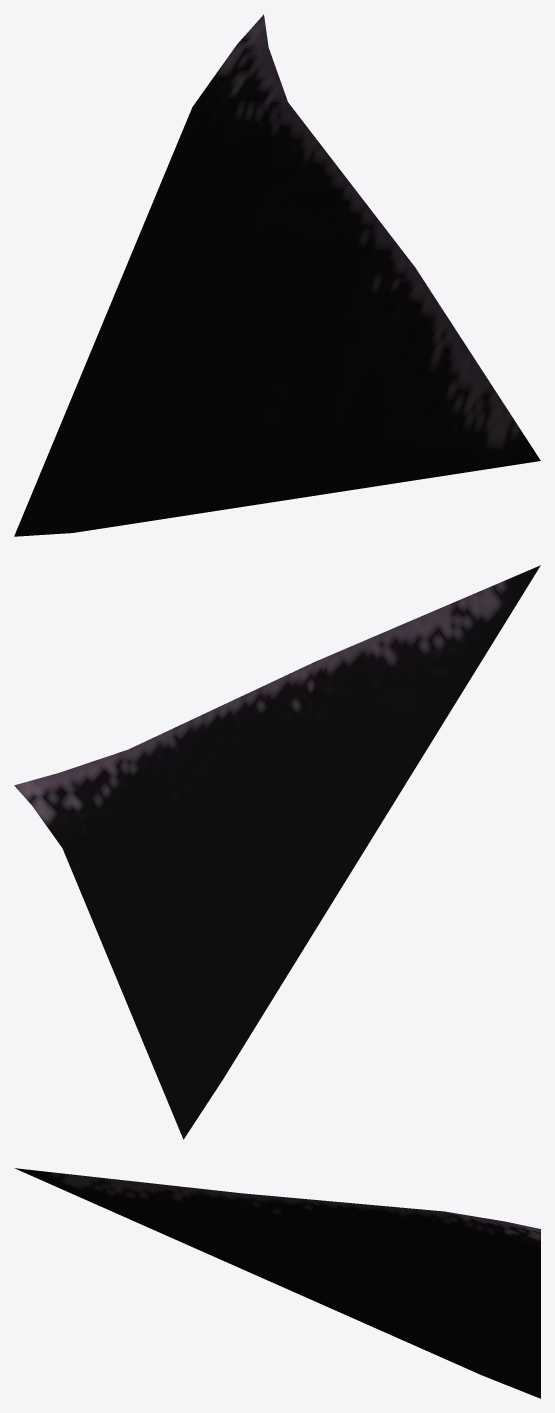
3 views of the same model, one above another, from view 1: azimuth 30°, elevation 25°; view 2: azimuth 150°, elevation 25°; view 3: azimuth 270°, elevation 25° (orthographic). The views are drawn at different scales.
Bounding box in the file's own units: 0.1638 × 0.289 × 0.5982.
Materials: 1 (1 with a texture image).
